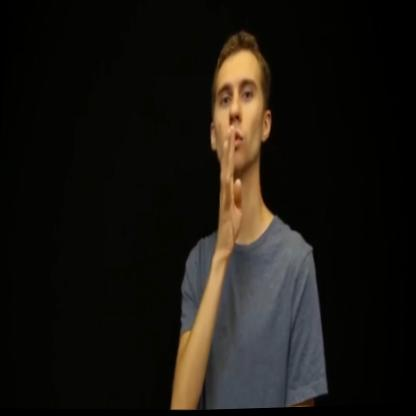Talk: (187, 5, 308, 284)
